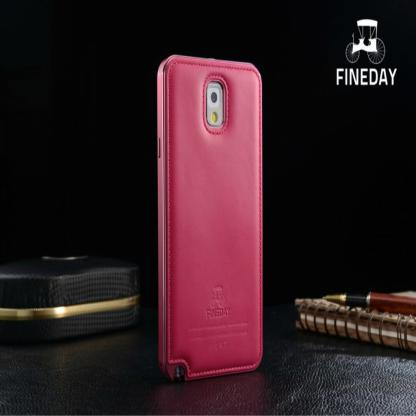Pen: (322, 288, 415, 316)
